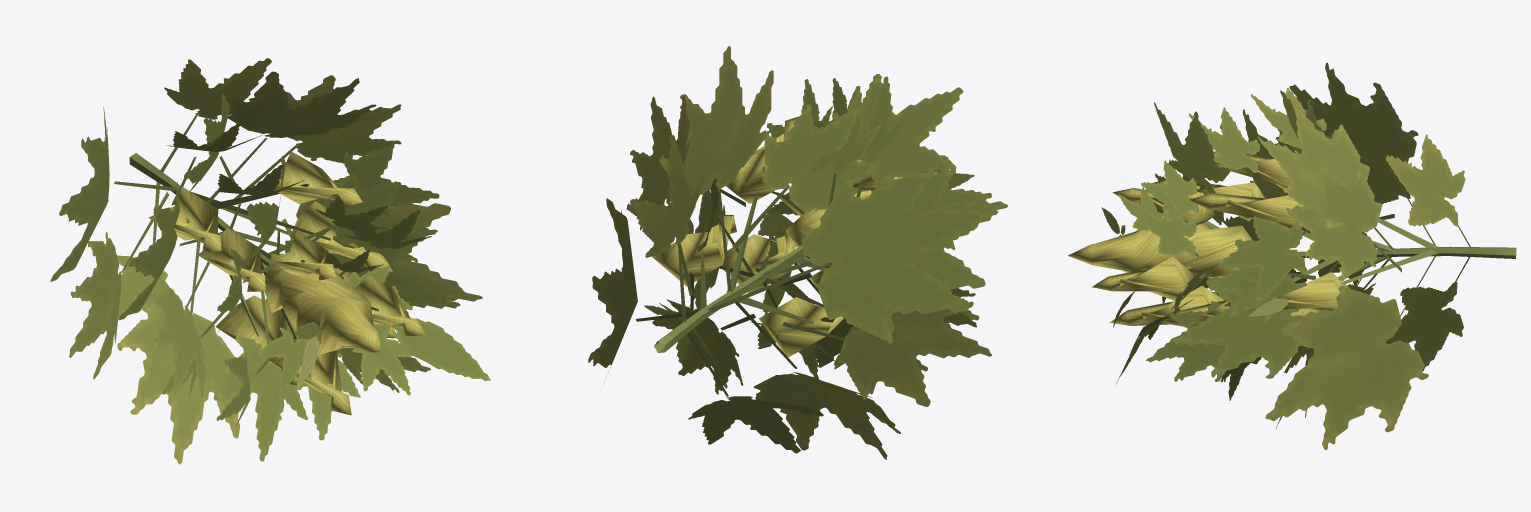
Rendered from p_gold_kush_ripe_c1_cards.obj.
3 views of the same model, side by side, from view 1: azimuth 30°, elevation 25°; view 2: azimuth 150°, elevation 25°; view 3: azimuth 270°, elevation 25° (orthographic). The views are drawn at different scales.
Size of the model in its own units: 1.47 by 1.34 by 1.35.
1 material, 1 textured.
